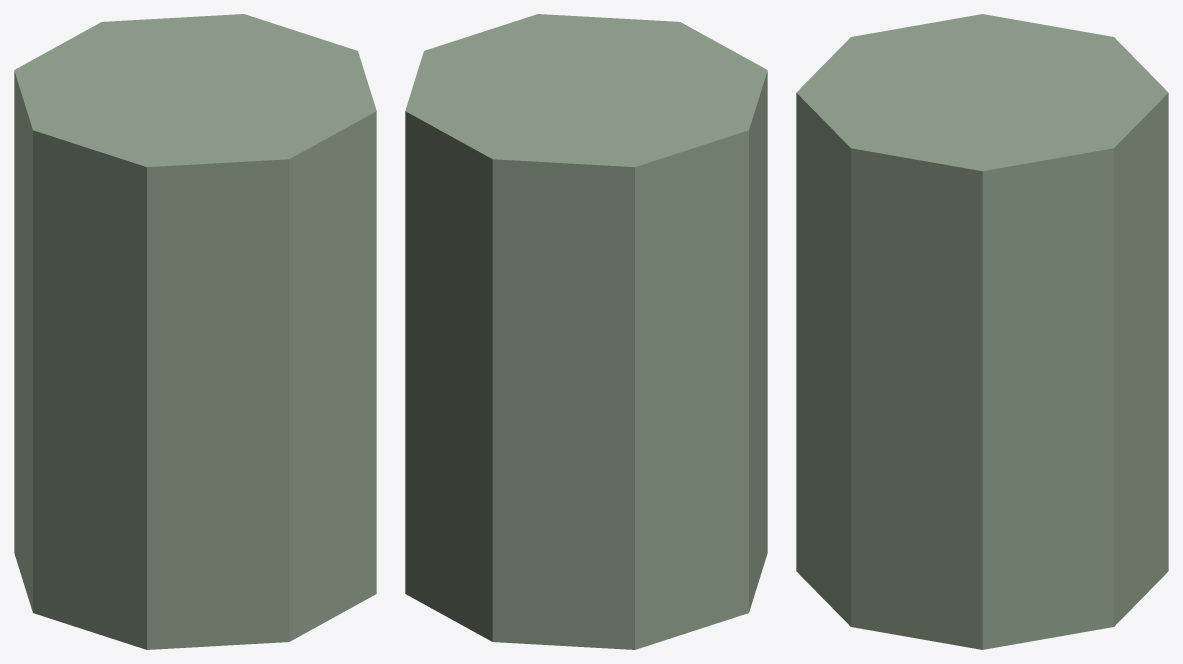
Rendered from barrel_03.fbx.
The picture shows the model from 3 angles, left to right: view 1: azimuth 30°, elevation 25°; view 2: azimuth 150°, elevation 25°; view 3: azimuth 270°, elevation 25°; orthographic projection.
Visible parts, largest first — view 1: barrel_03; view 2: barrel_03; view 3: barrel_03.
Part boxes in pixels (x1,y1,x2,y2): barrel_03: (14, 14, 376, 649); barrel_03: (405, 14, 767, 649); barrel_03: (796, 14, 1168, 649).
Size of the model in its own units: 1.42 by 2.02 by 1.42.
